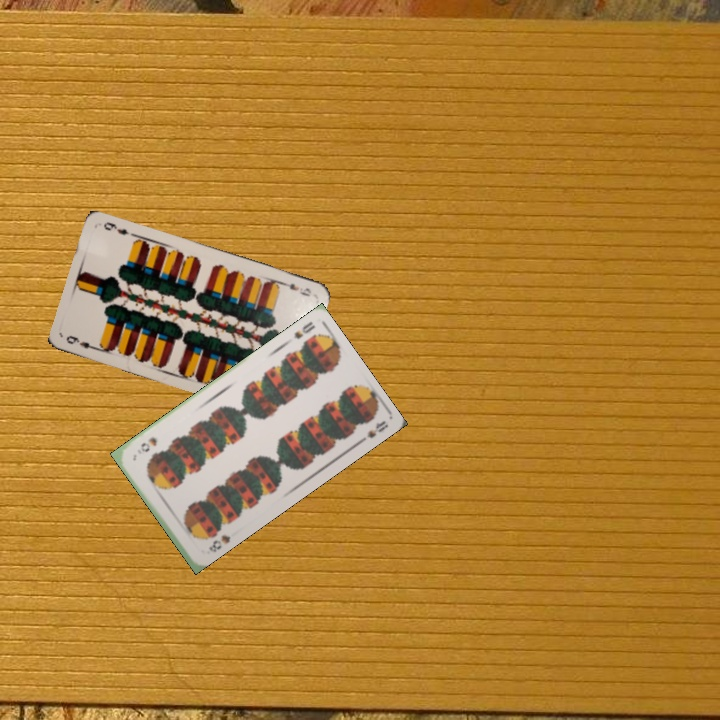E9: (62, 331, 101, 353), (277, 278, 314, 299)
S8: (290, 317, 318, 342), (205, 531, 233, 555)
